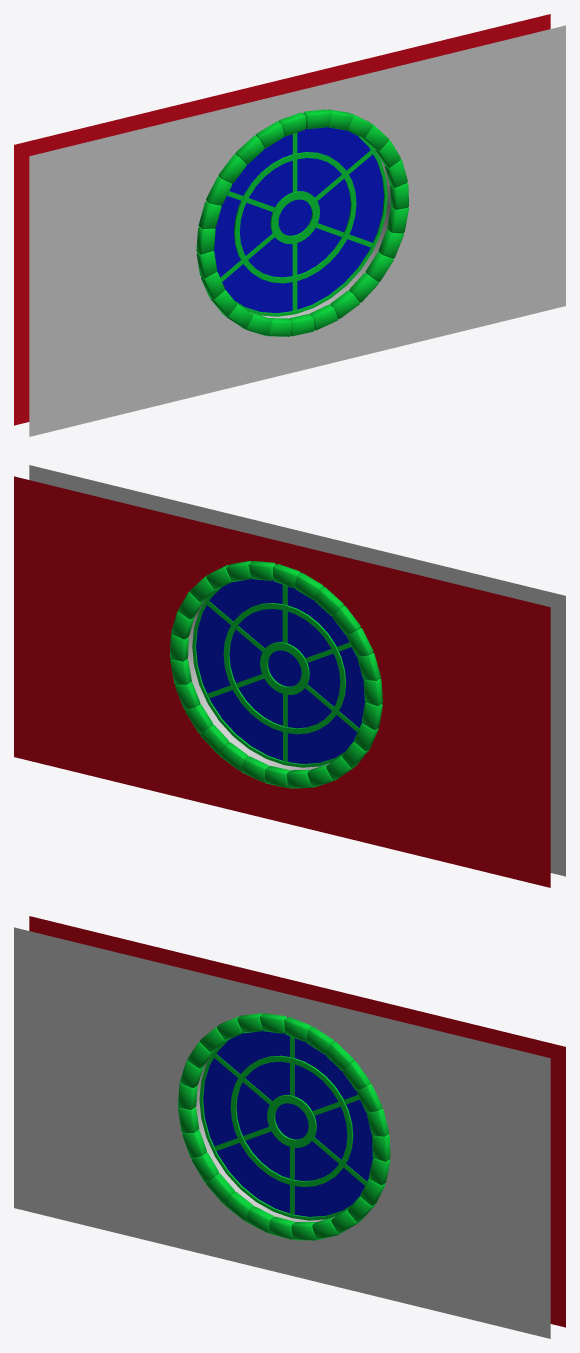
The model's file is Round_window.fbx.
3 views of the same model, one above another, from view 1: azimuth 30°, elevation 25°; view 2: azimuth 150°, elevation 25°; view 3: azimuth 330°, elevation 25° (orthographic).
Parts seen in each view (by area): view 1: Round_window; view 2: Round_window; view 3: Round_window.
Part boxes in pixels (<box>): Round_window: <box>14,14,565,436</box>; Round_window: <box>14,465,565,887</box>; Round_window: <box>14,916,565,1338</box>.
Size of the model in its own units: 1000 by 500 by 79.03.
